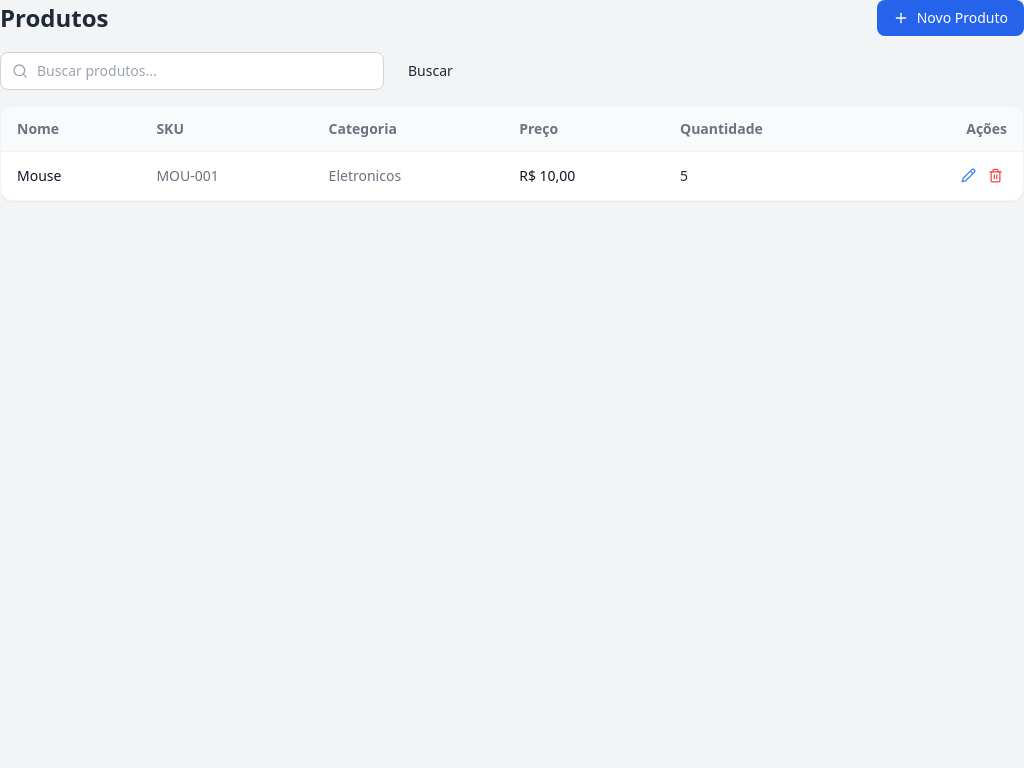
Test: ProdutosPage › deve abrir popup de confirmacao ao excluir produto
Expected: the text "Mouse" is shown, left=17, top=166, right=61, bottom=186
Click the button titled "Excluir" at (996, 176), box left=984, top=164, right=1007, bottom=187
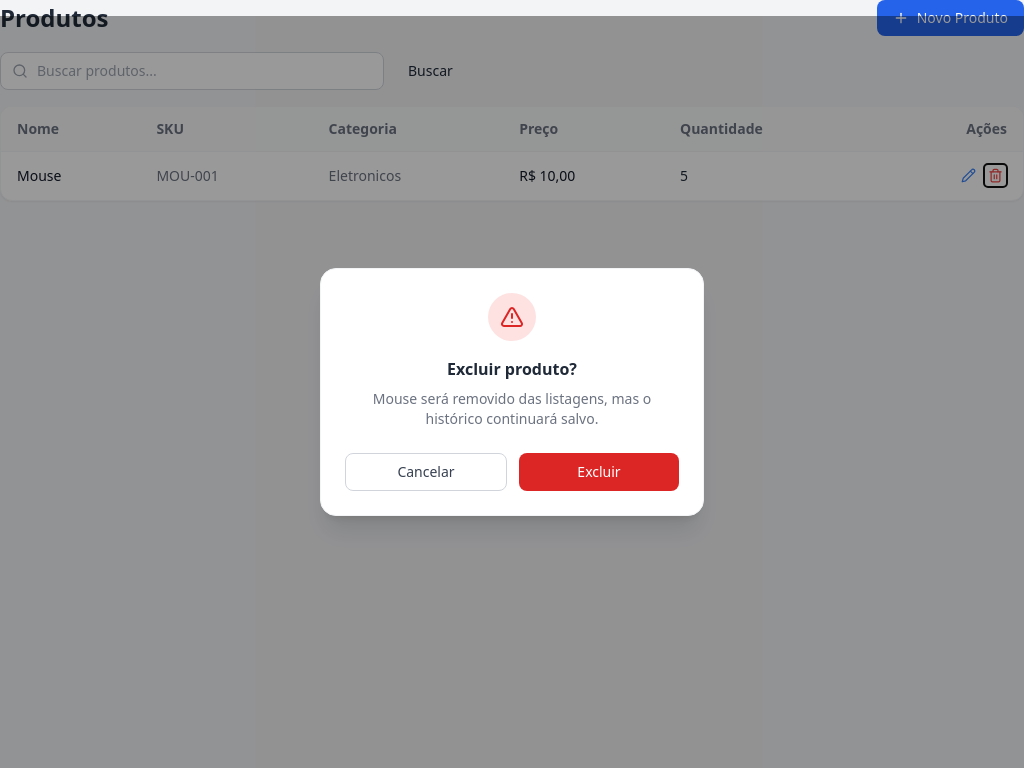
Expected: the heading "Excluir produto?" is shown, left=447, top=358, right=577, bottom=380
Expected: the text "Mouse será removido das listagens, mas o histórico continuará salvo." is shown, left=373, top=389, right=651, bottom=428
